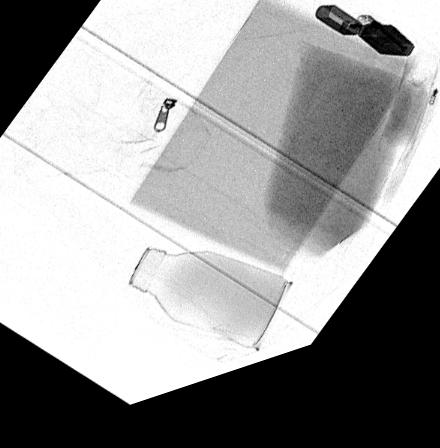Lighter: (313, 23, 415, 82)
